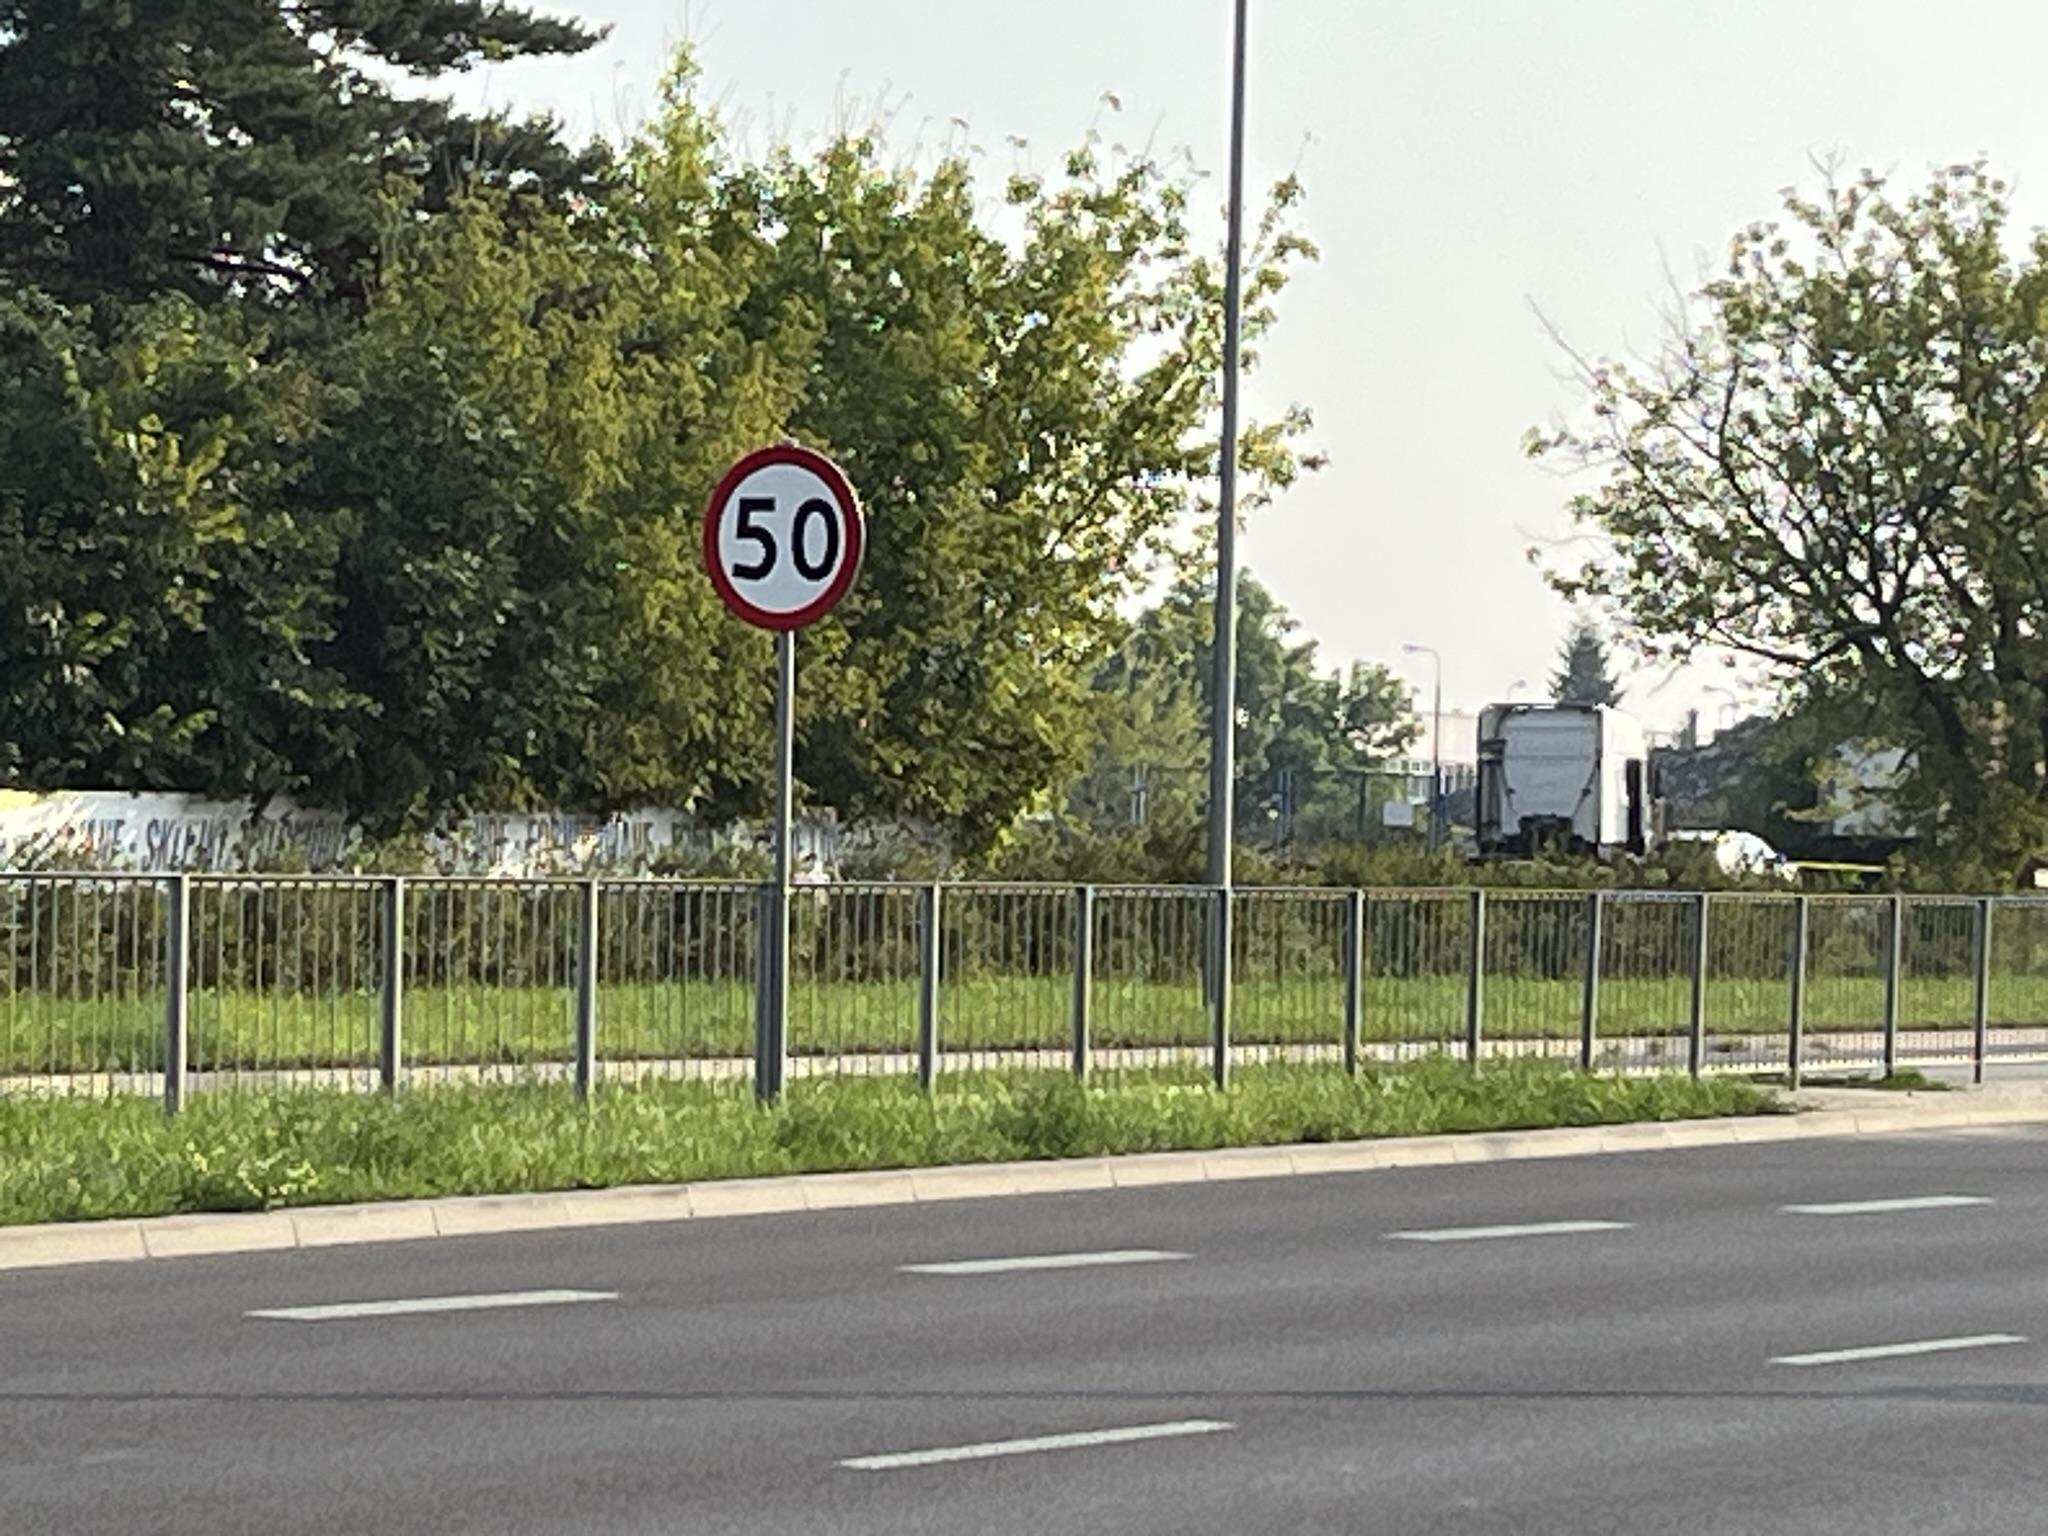prohibitory: (700, 440, 866, 632)
